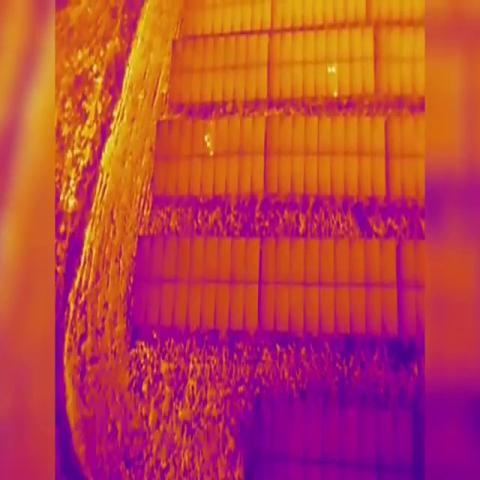fault: (204, 133, 209, 142), (327, 64, 331, 75), (207, 139, 211, 149), (332, 64, 336, 74), (210, 150, 214, 158), (334, 90, 338, 98)
